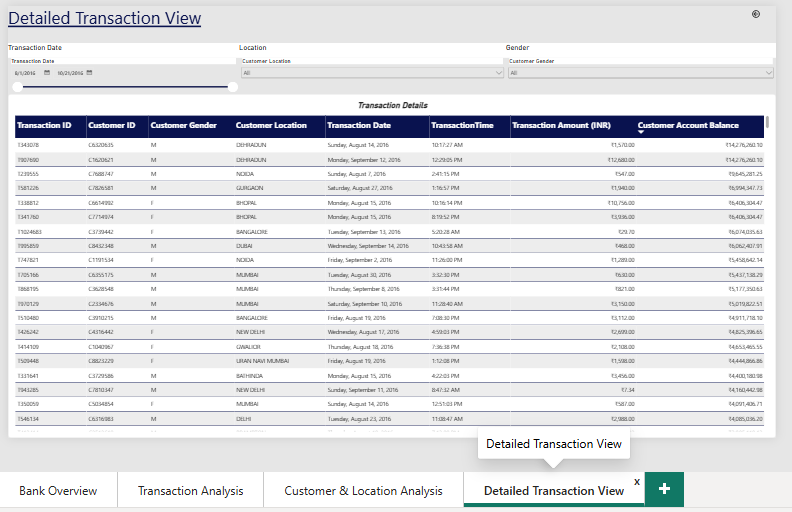

This screenshot's page, from the dashboard's own definition file:
{"tool":"powerbi","page":{"name":"Detailed Transaction View","canvas":[1920,1080],"ordinal":3},"visuals":[{"type":"textbox","box":[0,0,577.5,60],"z":0},{"type":"slicer","title":"Transaction Date","fields":{"Values":["bank_transactions.TransactionDate"]},"box":[0,92.5,577.5,190],"z":1000},{"type":"slicer","title":"Location","fields":{"Values":["bank_transactions.Customer Location"]},"box":[577.5,92.5,667.5,127.5],"z":2000},{"type":"slicer","title":"Gender","fields":{"Values":["bank_transactions.Customer Gender"]},"box":[1245,92.5,675,95],"z":3000},{"type":"tableEx","title":"Transaction Details","fields":{"Values":["bank_transactions.TransactionID","bank_transactions.CustomerID","bank_transactions.Customer Gender","bank_transactions.Customer Location","bank_transactions.TransactionDate","bank_transactions.TransactionTime","Sum(bank_transactions.TransactionAmount (INR))","Sum(bank_transactions.CustAccountBalance)"]},"box":[0,220,1920,860],"z":4000},{"type":"actionButton","box":[1820,0,100,40],"z":5000}]}

Visuals, with their boxes on the page's 1920x1080 design canvas (x1, y1, x2, y2). These are canvas units, not pixel positions in the 792x512 screenshot, which may show the page scaled, cropped or inside an application window:
textbox: BBox(0, 0, 578, 60)
"Transaction Date" slicer: BBox(0, 92, 578, 282)
"Location" slicer: BBox(578, 92, 1245, 220)
"Gender" slicer: BBox(1245, 92, 1920, 188)
"Transaction Details" tableEx: BBox(0, 220, 1920, 1080)
actionButton: BBox(1820, 0, 1920, 40)
